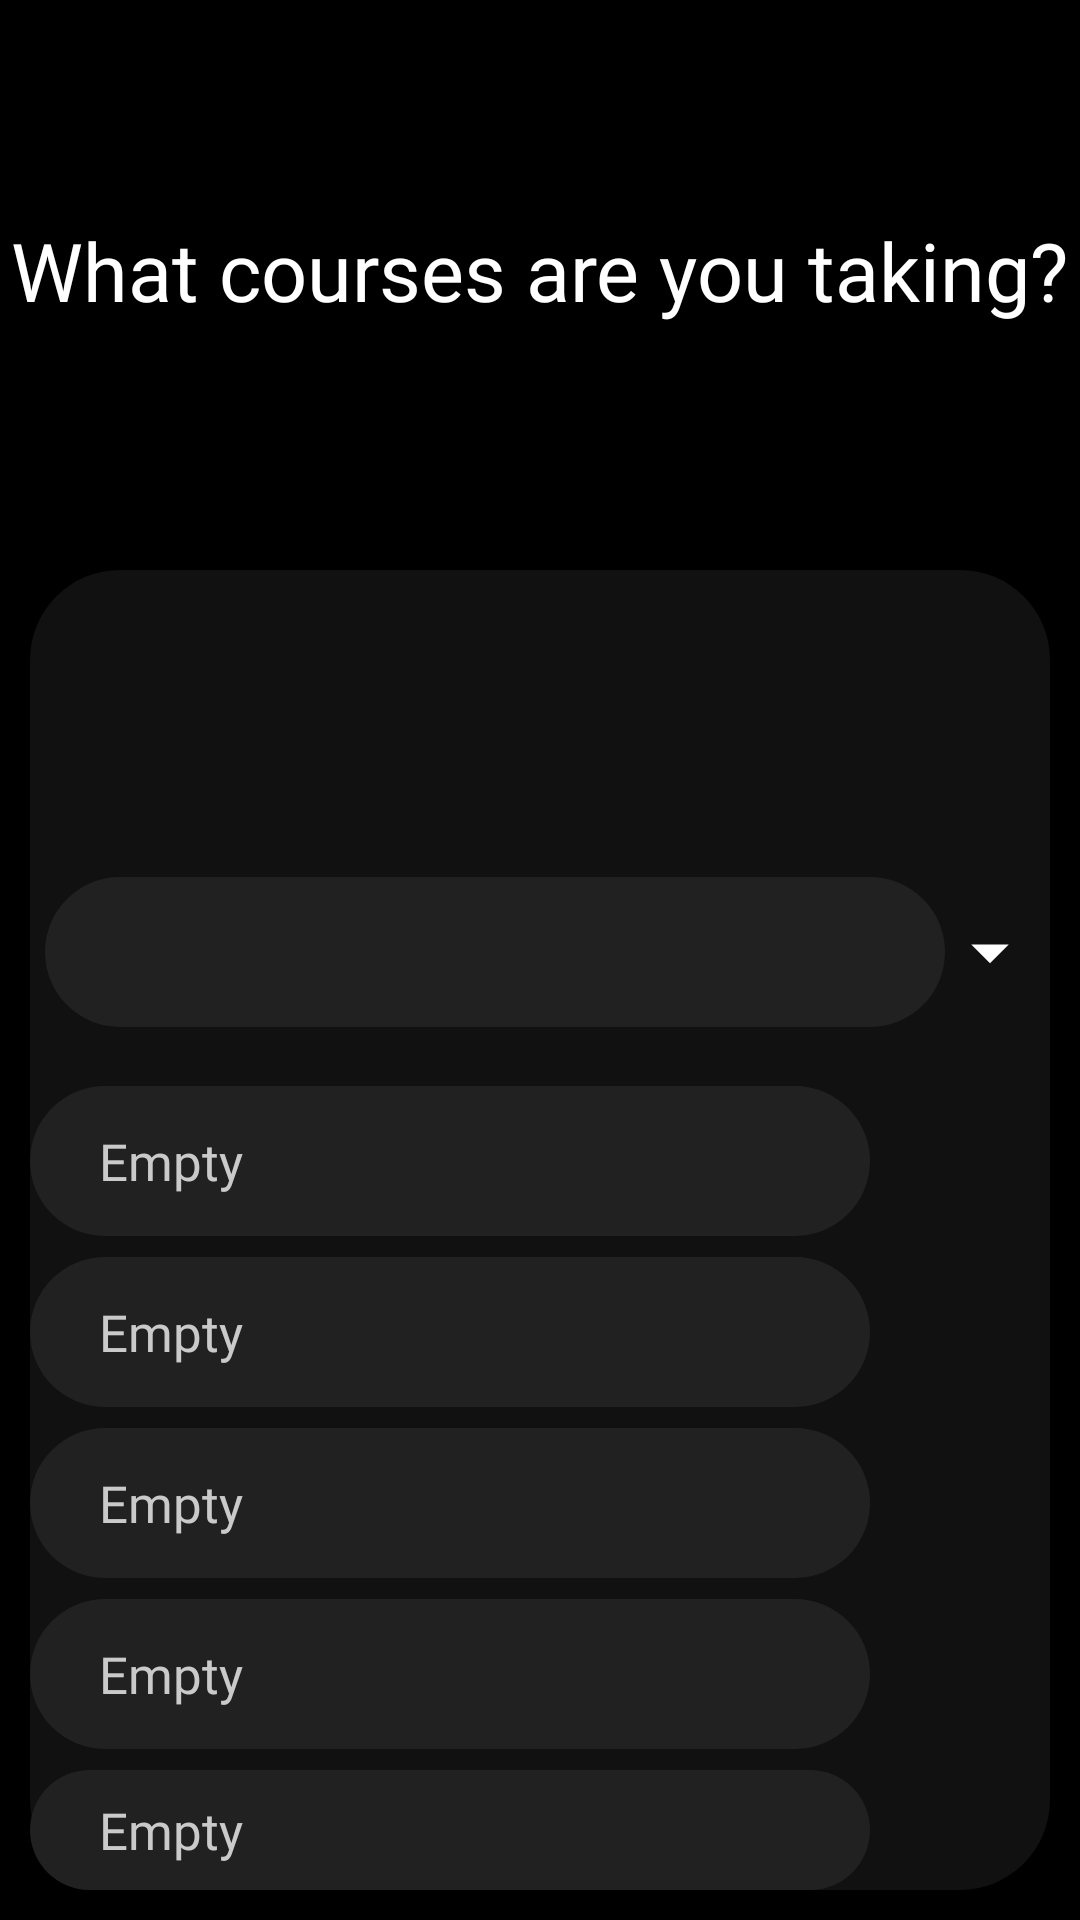

Screen size 1080 × 1920. Icon name, then its center in pixels as (x=x, y=y):
arrow drop down: (x=990, y=953)
